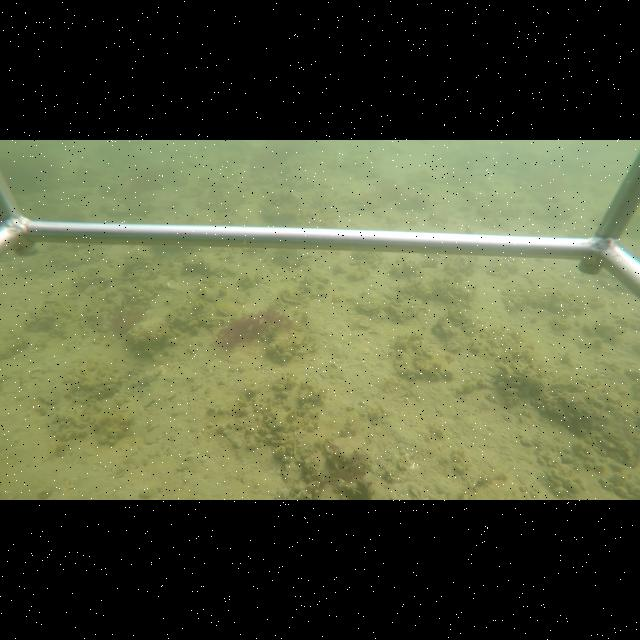Oyster-Open: (273, 289, 309, 310)
